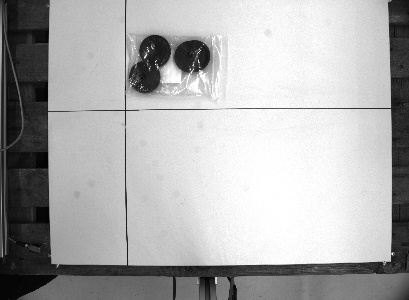t1: (122, 29, 227, 103)
